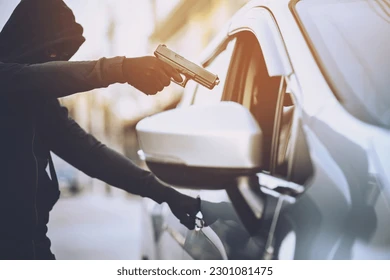Asalto: (155, 44, 217, 86)
